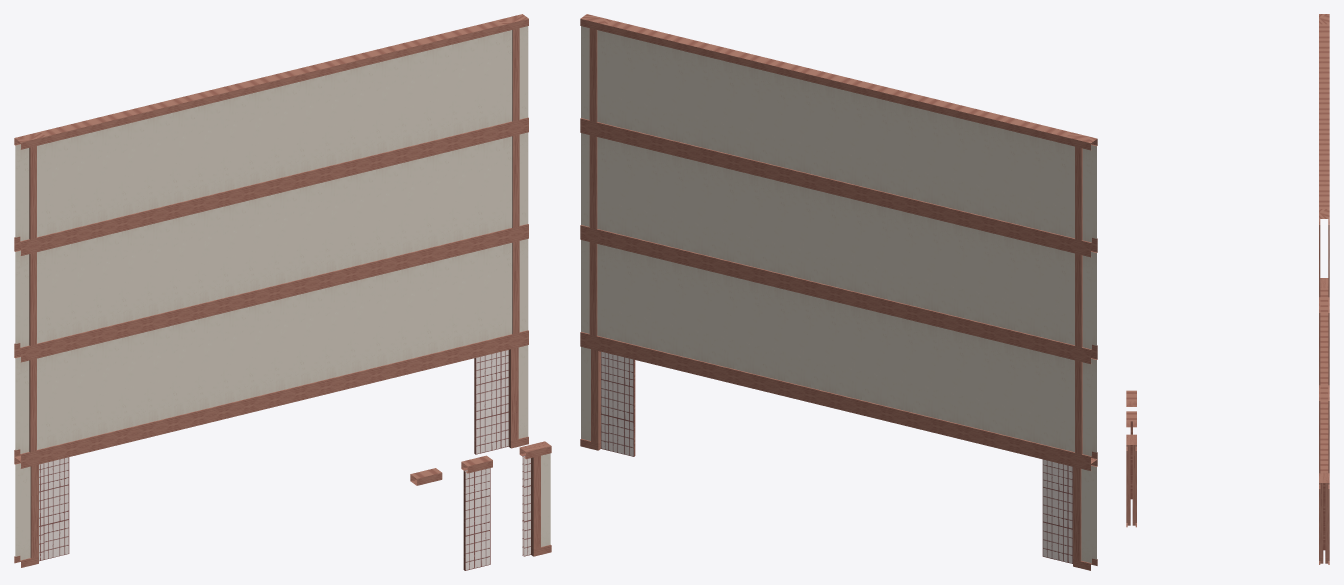
The model's file is Paredes_Puerta_mod.fbx.
3 renders of one model, left to right at view 1: azimuth 30°, elevation 25°; view 2: azimuth 150°, elevation 25°; view 3: azimuth 270°, elevation 25°, orthographic. The views are drawn at different scales.
Parts seen in each view (by area): view 1: Pared_Base.007, Pared_Base.005, Pared_Puerta_Cerrado_v2; view 2: Pared_Base.007; view 3: Pared_Base.007, Pared_Base.005, Pared_Puerta_Cerrado_v2.
Part boxes in pixels (x1,y1,x2,y2): Pared_Base.007: [14, 14, 528, 567]; Pared_Base.005: [519, 441, 551, 556]; Pared_Puerta_Cerrado_v2: [461, 455, 492, 570]; Pared_Base.007: [580, 14, 1097, 570]; Pared_Base.007: [1319, 14, 1329, 564]; Pared_Base.005: [1126, 434, 1136, 527]; Pared_Puerta_Cerrado_v2: [1126, 411, 1136, 499].
Size of the model in its own units: 2000 by 1600 by 838.
1 material, 1 textured.
